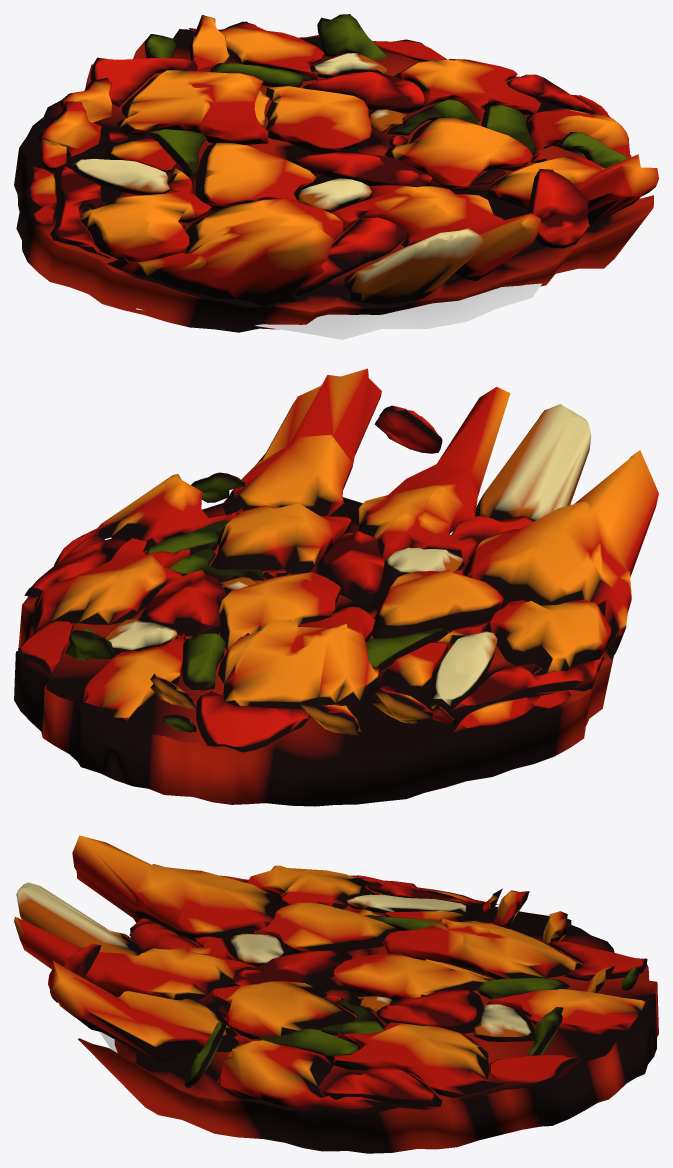
The model's file is SM_D07_wok.fbx.
The picture shows the model from 3 angles, top to bottom: view 1: azimuth 30°, elevation 25°; view 2: azimuth 150°, elevation 25°; view 3: azimuth 270°, elevation 25°; orthographic projection. The views are drawn at different scales.
Visible parts, largest first — view 1: SM_D07_wok; view 2: SM_D07_wok; view 3: SM_D07_wok.
Part boxes in pixels (x1,y1,x2,y2): SM_D07_wok: [14, 14, 658, 339]; SM_D07_wok: [14, 368, 658, 806]; SM_D07_wok: [14, 835, 658, 1153].
Size of the model in its own units: 0.1591 by 0.042 by 0.1859.
